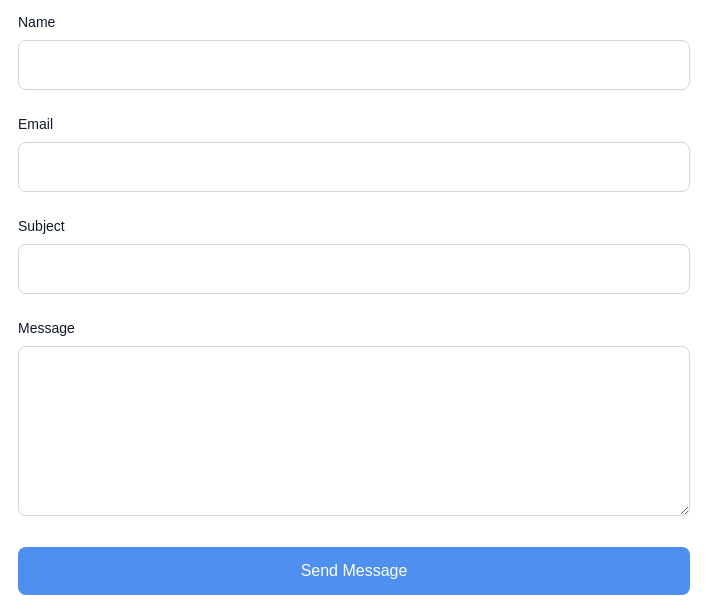
it: ContactForm Unit Tests › Form Submission › should display success message after successful submission
In the field labelled "Name": [354, 65] box [18,40,690,90], type "John Doe"
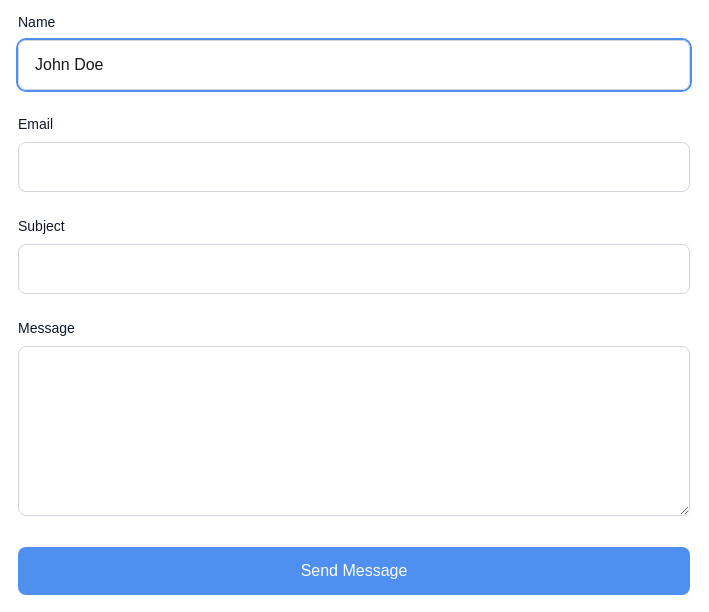
In the field labelled "Email": [354, 167] box [18,142,690,192], type "john@example.com"
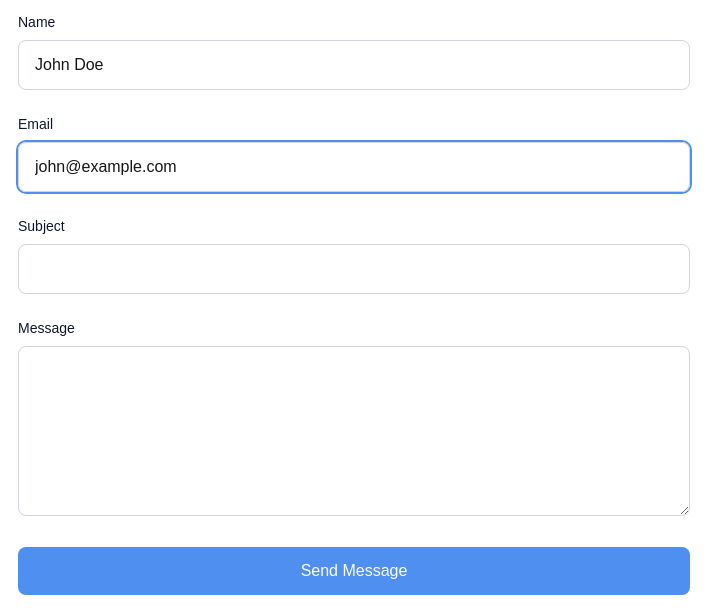
In the field labelled "Subject": [354, 269] box [18,244,690,294], type "Test Subject"
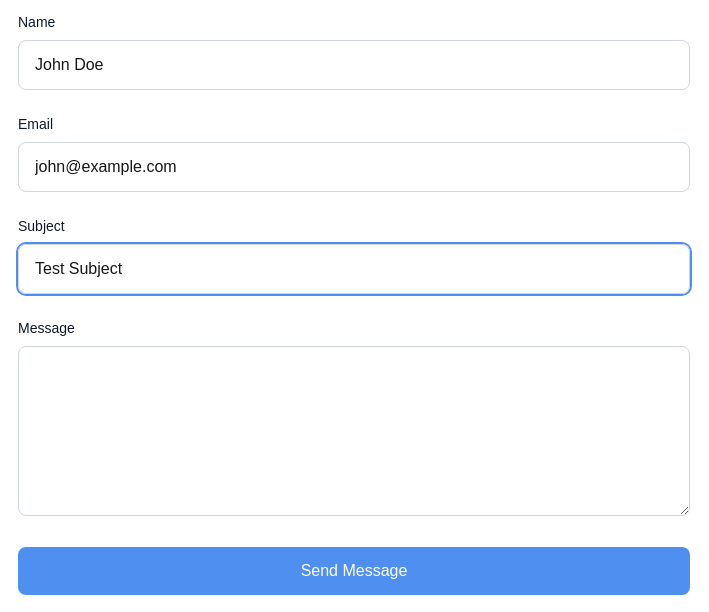
In the text box labelled "Message": [354, 431] box [18,346,690,516], type "This is a test message"
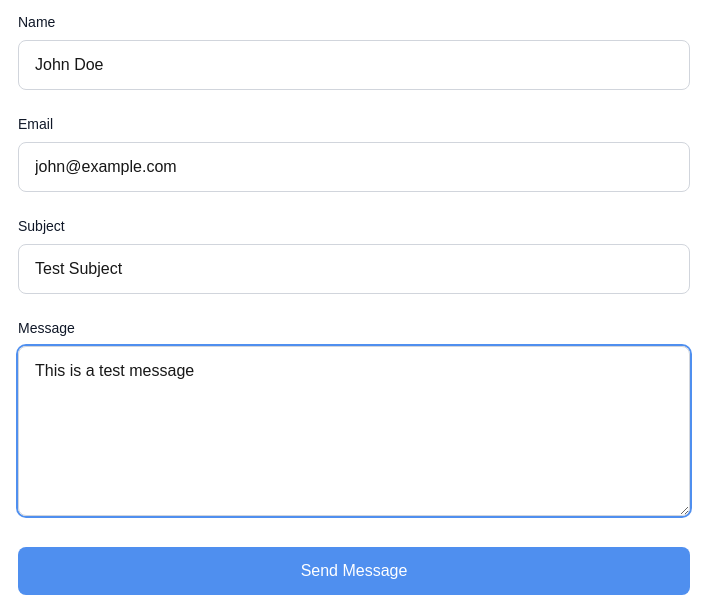
Click the button "Send Message": [354, 571] box [18,547,690,595]
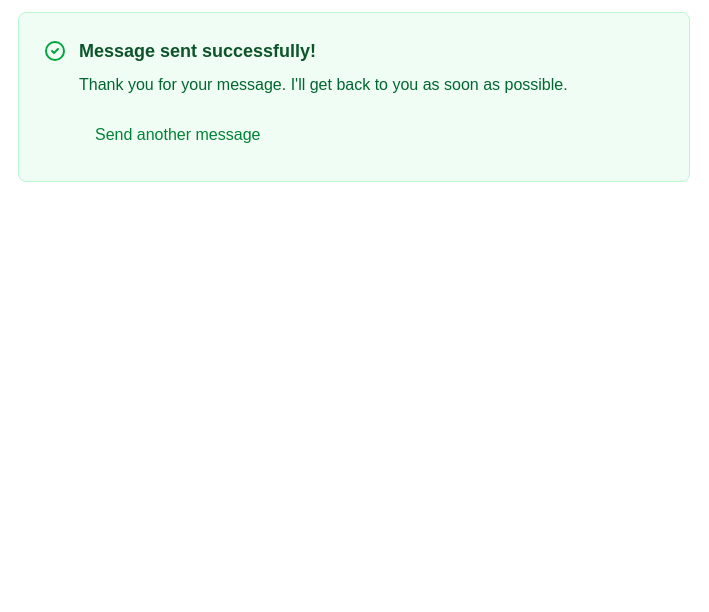
Expected: the heading "Message sent successfully!" is shown, [79,41,316,61]
